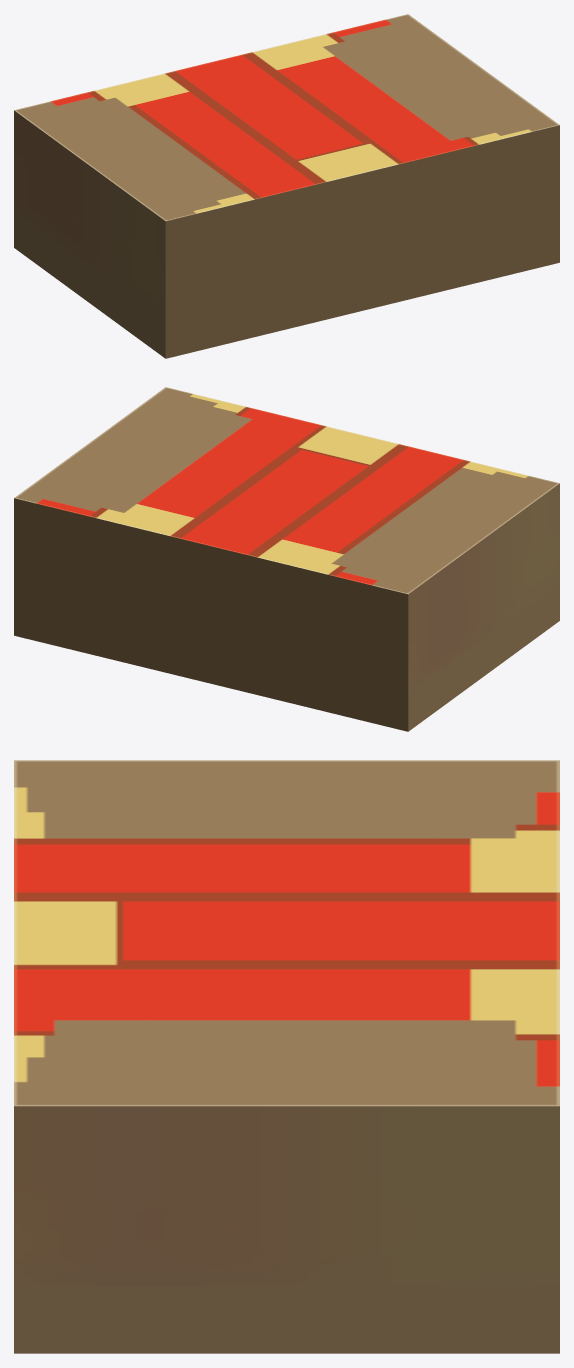
Rendered from Ammunition_12G_Base_0_Mod.FBX.
3 views of the same model, one above another, from view 1: azimuth 30°, elevation 25°; view 2: azimuth 150°, elevation 25°; view 3: azimuth 270°, elevation 25° (orthographic). The views are drawn at different scales.
Visible parts, largest first — view 1: Ammunition_12G_Base_0_Mod; view 2: Ammunition_12G_Base_0_Mod; view 3: Ammunition_12G_Base_0_Mod.
Part boxes in pixels (x1,y1,x2,y2): Ammunition_12G_Base_0_Mod: [14, 14, 559, 358]; Ammunition_12G_Base_0_Mod: [14, 387, 559, 731]; Ammunition_12G_Base_0_Mod: [14, 760, 559, 1353].
Bounding box in the file's own units: 9.25 × 3.08 × 6.16.
